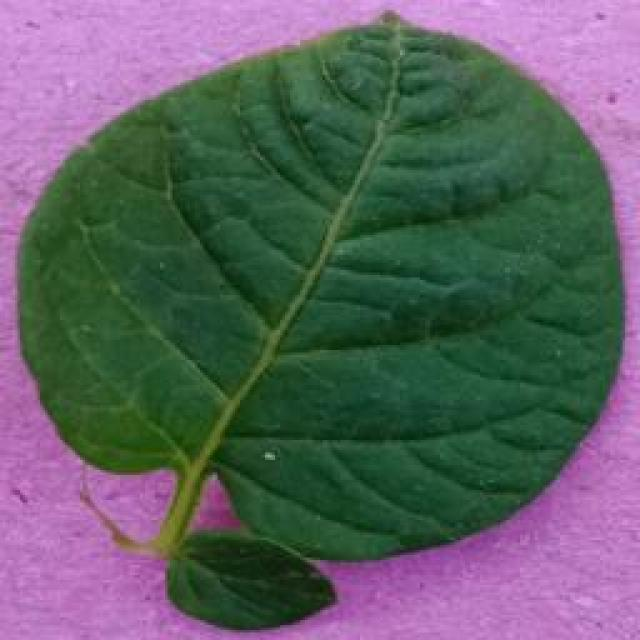Potato_Healthy: (14, 9, 616, 623)
